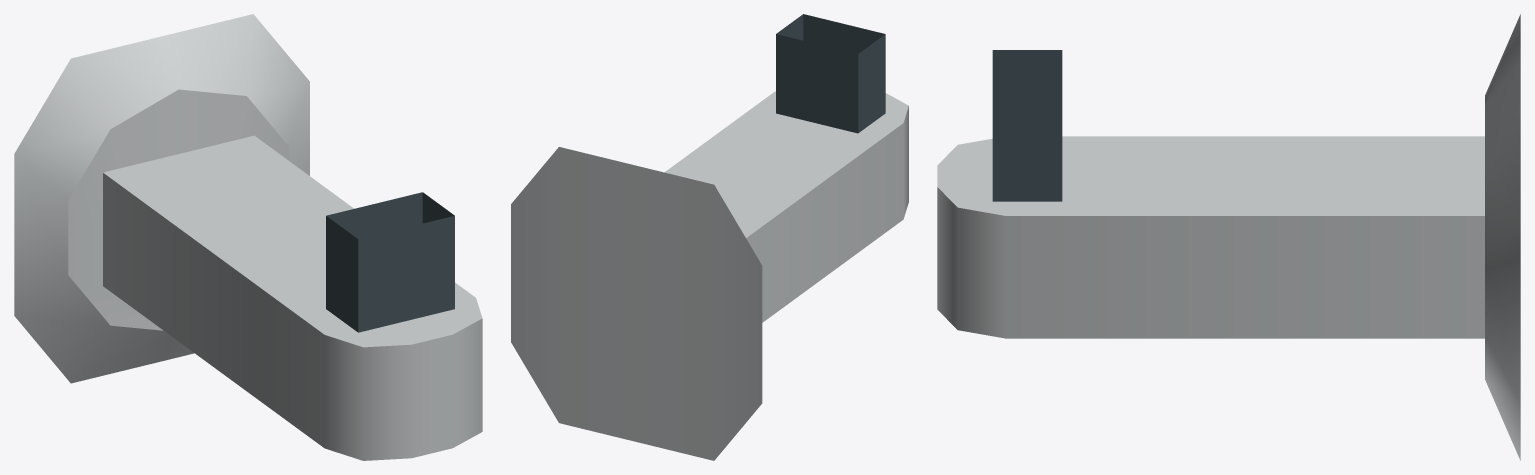
Rendered from Security_cam_003.fbx.
The picture shows the model from 3 angles, left to right: view 1: azimuth 30°, elevation 25°; view 2: azimuth 150°, elevation 25°; view 3: azimuth 270°, elevation 25°; orthographic projection. The views are drawn at different scales.
Visible parts, largest first — view 1: Security_cam_003; view 2: Security_cam_003; view 3: Security_cam_003.
Boxes of the visible parts, left/top/right/bottom form: Security_cam_003: left=14, top=14, right=482, bottom=460; Security_cam_003: left=511, top=14, right=908, bottom=460; Security_cam_003: left=937, top=14, right=1520, bottom=460.
Bounding box in the file's own units: 18.75 × 29.69 × 19.71.
